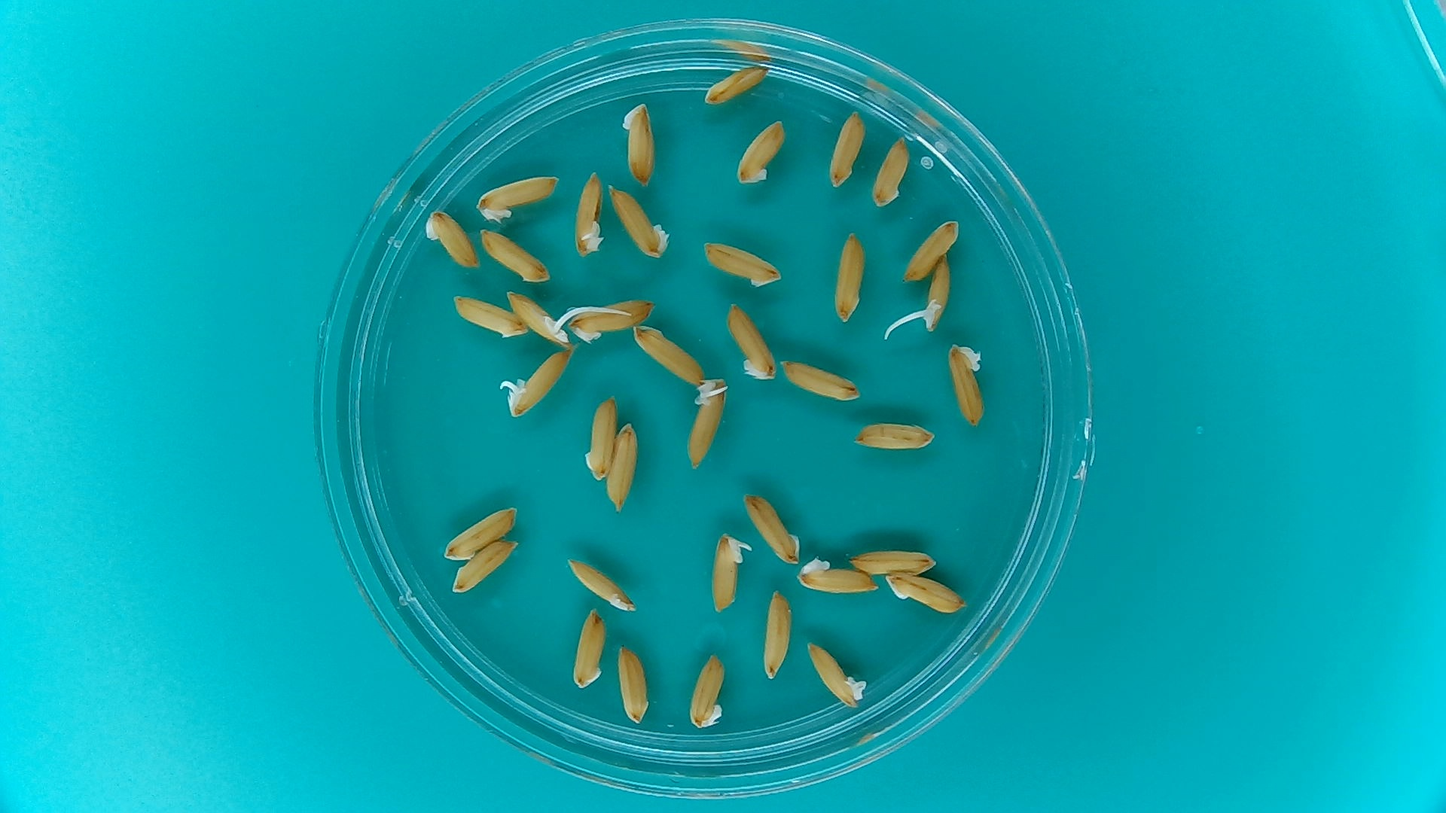no: (438, 499, 521, 563), (470, 169, 566, 223), (626, 321, 707, 385), (446, 534, 526, 598), (606, 182, 670, 261), (560, 551, 641, 613), (696, 236, 786, 288), (476, 224, 552, 285), (742, 488, 801, 565), (445, 291, 532, 343), (723, 300, 778, 381), (567, 295, 658, 343), (898, 215, 961, 283), (731, 115, 789, 187), (421, 205, 482, 273), (776, 356, 864, 403), (601, 419, 642, 519), (828, 228, 868, 327), (822, 105, 867, 191), (867, 129, 913, 212), (619, 98, 660, 191), (885, 571, 971, 615), (944, 342, 987, 429), (612, 641, 654, 729), (700, 59, 773, 108), (580, 391, 618, 484), (685, 650, 728, 732), (795, 556, 880, 597), (759, 587, 795, 681), (569, 606, 607, 693), (851, 418, 938, 455), (847, 544, 940, 578), (572, 166, 605, 260)
yes: (496, 345, 579, 423), (801, 638, 864, 710), (706, 529, 753, 623), (683, 379, 730, 471), (502, 291, 571, 349), (912, 252, 954, 334)
